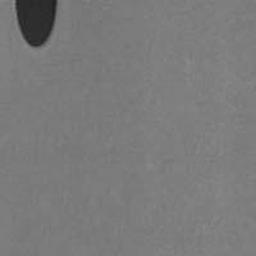Punching: (16, 0, 57, 47)
